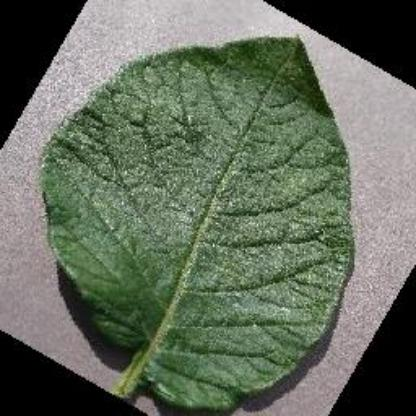Healthy-plant: (40, 32, 356, 408)
